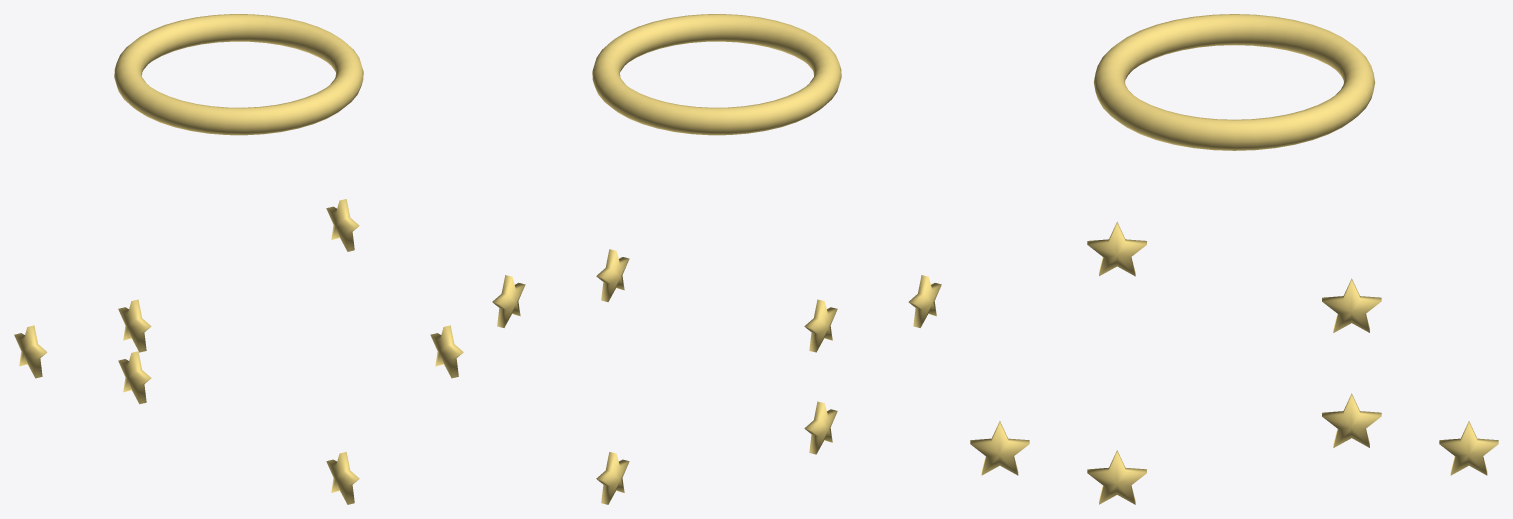
The model's file is SM_IdealAura.fbx.
The picture shows the model from 3 angles, left to right: view 1: azimuth 30°, elevation 25°; view 2: azimuth 150°, elevation 25°; view 3: azimuth 270°, elevation 25°; orthographic projection. The views are drawn at different scales.
Parts seen in each view (by area): view 1: SM_IdealAura; view 2: SM_IdealAura; view 3: SM_IdealAura.
Part boxes in pixels (x1=…): SM_IdealAura: x1=14, y1=14, x2=463, y2=504; SM_IdealAura: x1=492, y1=14, x2=941, y2=504; SM_IdealAura: x1=970, y1=14, x2=1498, y2=504.
Size of what is drawn, in the model's own units: 1.36 by 1.43 by 1.69.
Materials: 1 (1 with a texture image).
